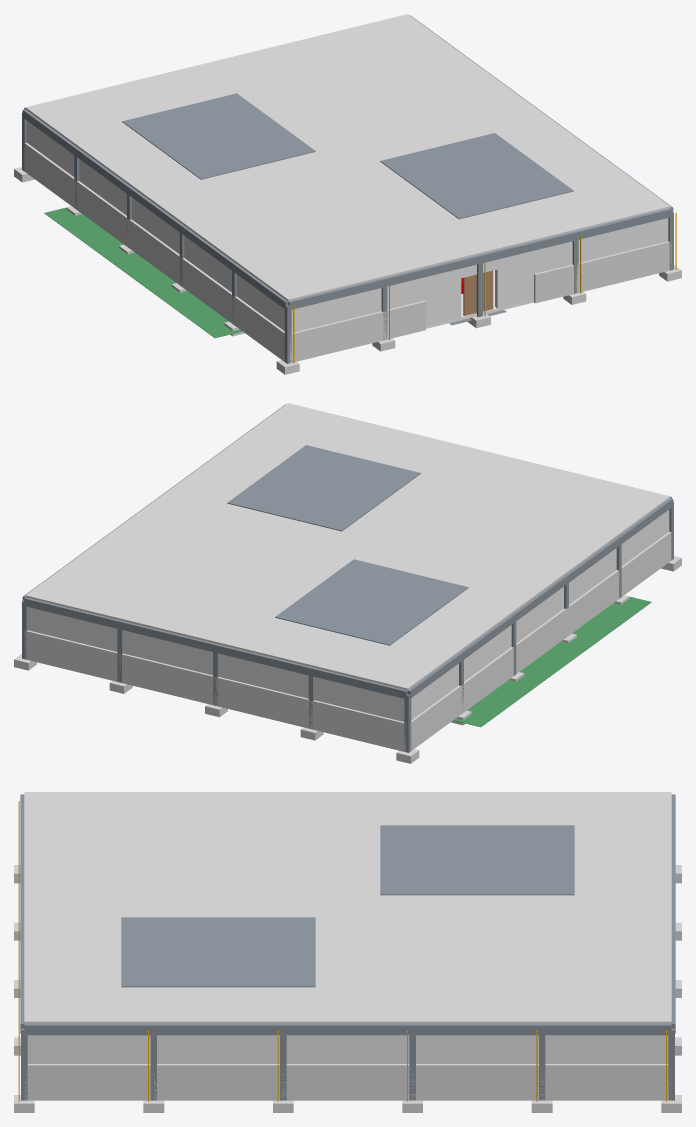
File: generated_building_8.glb
3 renders of one model, top to bottom at view 1: azimuth 30°, elevation 25°; view 2: azimuth 150°, elevation 25°; view 3: azimuth 270°, elevation 25°, orthographic. The views are drawn at different scales.
Parts seen in each view (by area): view 1: architectural, landscape, structural, doors; view 2: architectural, landscape, structural; view 3: architectural, landscape, structural, electrical.
Boxes of the visible parts, <box> form: architectural: <box>25,14,670,332</box>; landscape: <box>23,142,671,362</box>; structural: <box>14,15,681,374</box>; doors: <box>463,270,493,315</box>; architectural: <box>25,403,670,721</box>; landscape: <box>24,531,671,752</box>; structural: <box>14,404,681,763</box>; architectural: <box>24,792,671,1063</box>; landscape: <box>24,1064,671,1100</box>; structural: <box>14,794,681,1112</box>; electrical: <box>18,801,666,1101</box>.
Bounding box in the file's own units: 22.9 × 3.75 × 25.8.
